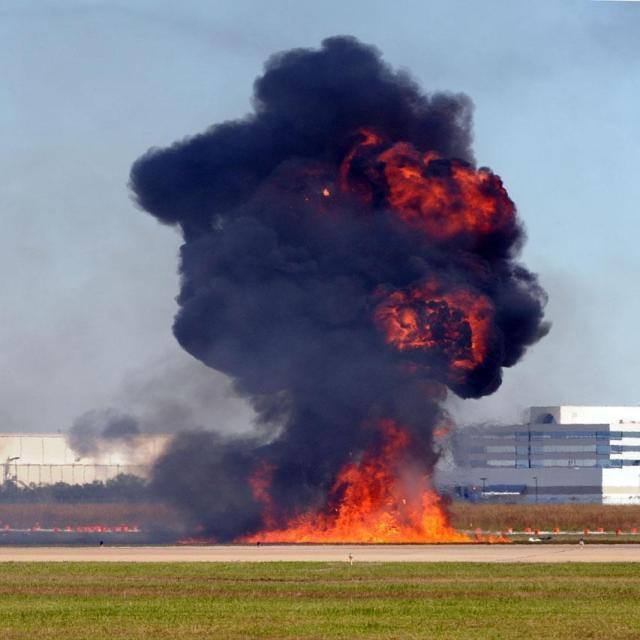Fire: (237, 414, 514, 544), (321, 125, 521, 233), (369, 276, 494, 370), (249, 458, 280, 538), (1, 518, 136, 534), (466, 524, 640, 536)
Smoke: (128, 37, 556, 546), (3, 238, 298, 545)
